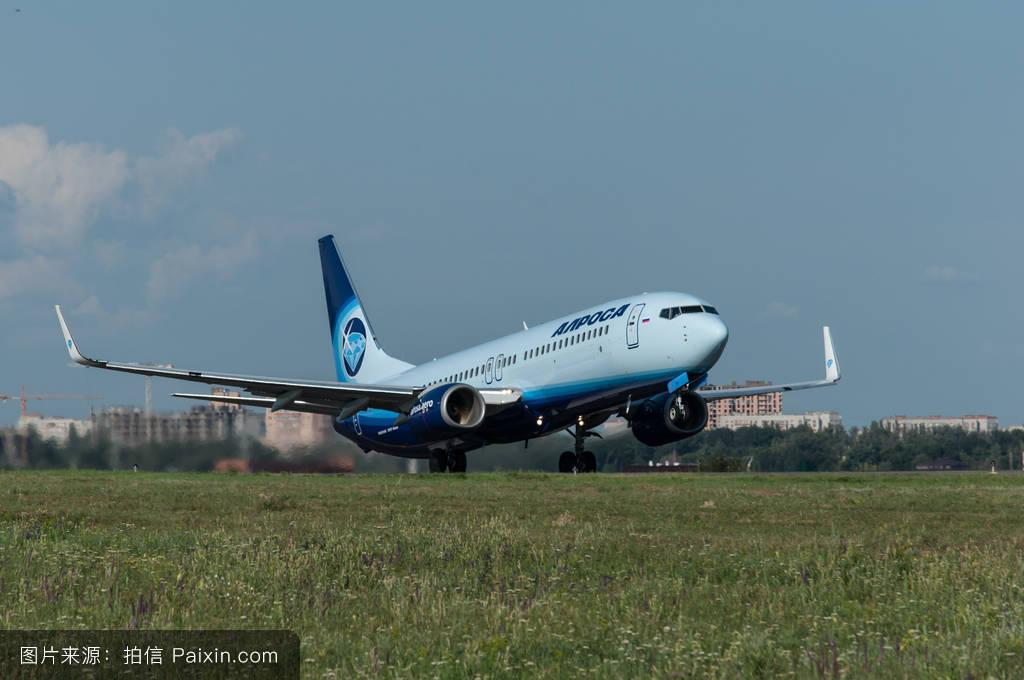airplane: (54, 223, 848, 459)
